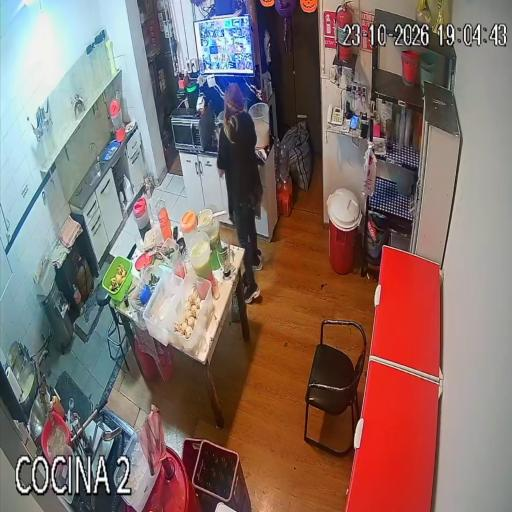Balde: (249, 103, 270, 149)
Cernidor: (198, 208, 227, 228)
Envase Llajua: (52, 394, 64, 418)
Jarra1: (133, 197, 150, 238)
Jarra2: (181, 210, 197, 247)
Jarra3: (198, 207, 220, 270)
Jarra4: (189, 232, 212, 280)
JarraLicuadora: (217, 239, 234, 277)
Microondas: (171, 105, 213, 151)
Persona2: (217, 84, 262, 302)
Taper: (102, 256, 132, 302)
Taper2: (132, 265, 161, 318)
Taper3: (143, 272, 184, 347)
Taper4: (165, 273, 214, 357)
Taper5: (114, 431, 158, 512)
